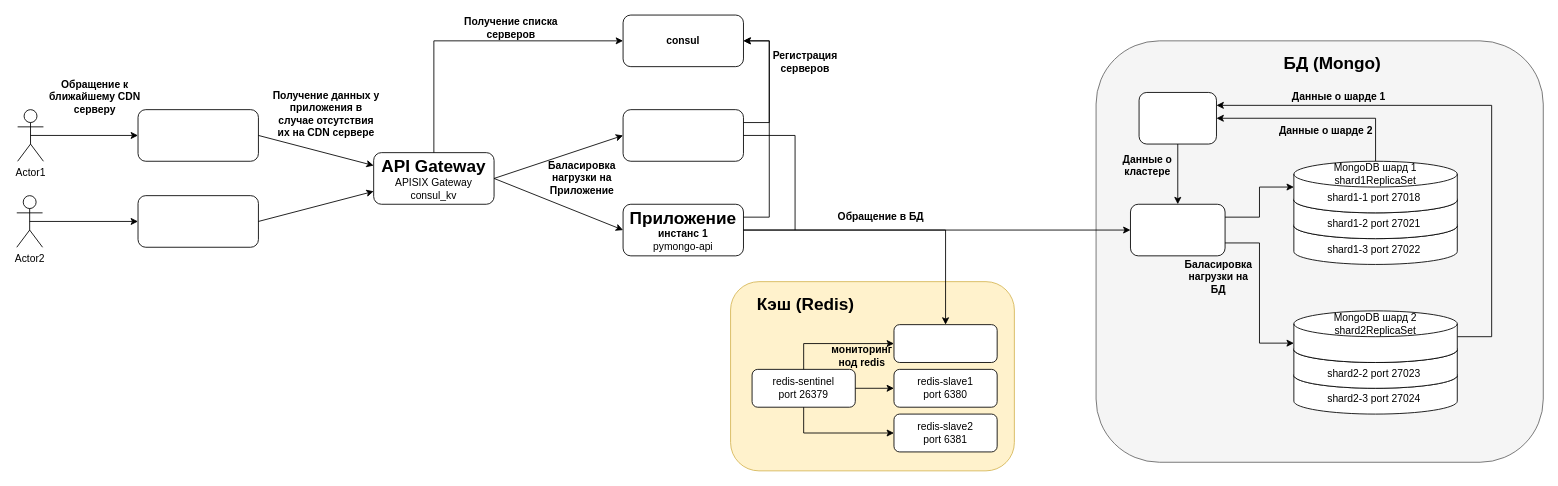
Some shapes in this 1558 by 486 pixel diagram are drawn without their labels. Each missing label, with the box of its shape:
CDN Сервер 1: (137, 109, 258, 161)
CDN Сервер 2: (137, 195, 258, 247)
redis-master port 6379: (893, 324, 997, 362)
shard2-1 port 27019: (1293, 310, 1457, 362)
Приложение инстанс 2 pymongo-api: (622, 109, 743, 161)
Роутер mongos_router port 27020: (1130, 203, 1225, 256)
Сервис конфигурации configSrv port 27017: (1138, 92, 1216, 144)
